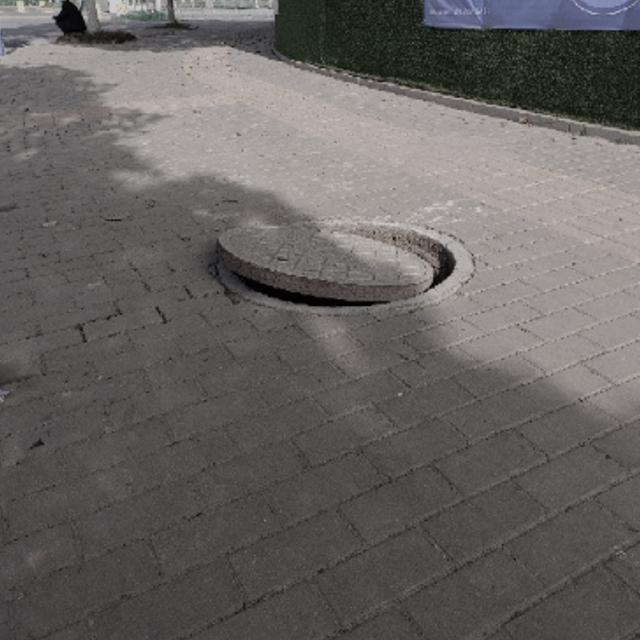uncovered: (214, 222, 476, 314)
